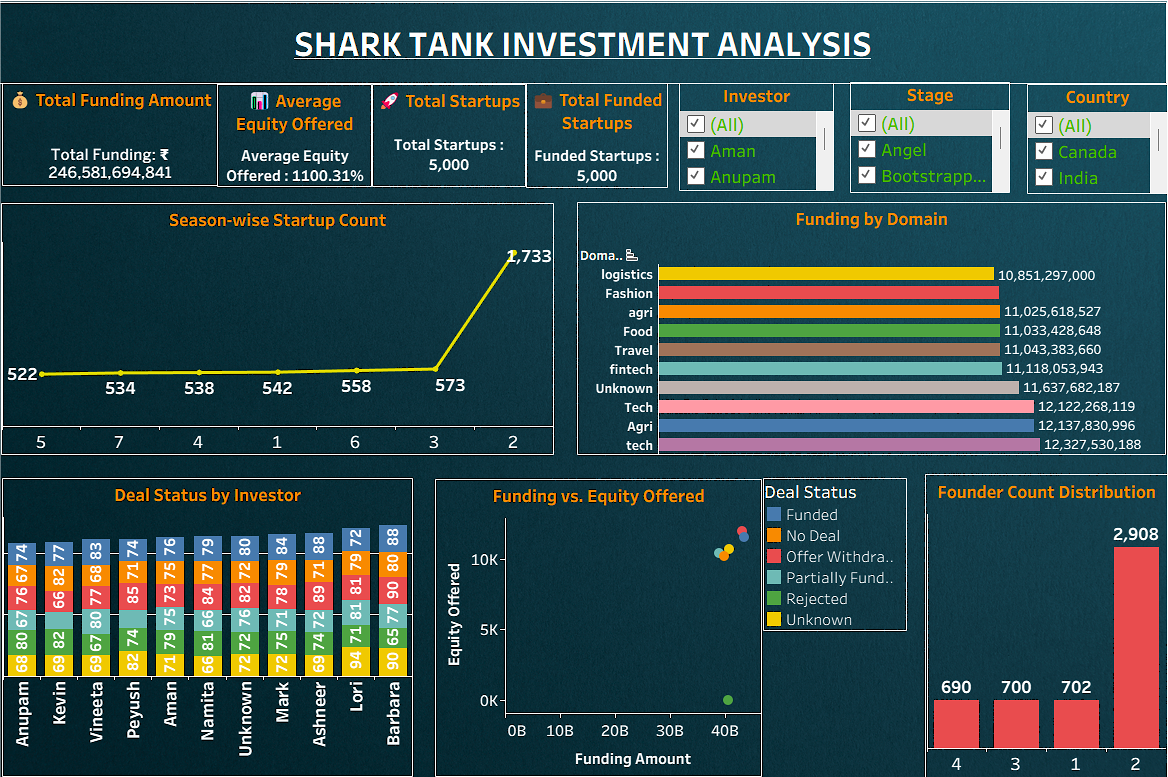

The dashboard page shown, as its layout file describes it:
{"tool":"tableau","page":{"name":"Dashboard 1","canvas":[1000,1000],"units":"permille","ordinal":0},"visuals":[{"type":"image","param":"C:/Users/WELCOME/Desktop/plain-smooth-green-wall-texture.jpg","box":[6.6,10,986.9,980]},{"type":"text","box":[20.5,16.2,957.4,102.2]},{"type":"filter","title":"Filter","param":"[federated.1q04jqq11v8j4z1a1cldg11kqntg].[none:stage:nk]","box":[718,116,131.2,138.4]},{"type":"worksheet","title":"Sheet 1","mark":"Automatic","box":[22.9,117.2,177.1,128.4]},{"type":"worksheet","title":"Sheet 4","mark":"Automatic","box":[452.5,117.2,116.4,130.9]},{"type":"filter","title":"Filter","param":"[federated.1q04jqq11v8j4z1a1cldg11kqntg].[none:investor:nk]","box":[577.9,117.2,127,134.7]},{"type":"worksheet","title":"Sheet 2","mark":"Automatic","box":[199.2,118.5,127,128.4]},{"type":"worksheet","title":"Sheet 3","mark":"Automatic","box":[326.2,118.5,126.2,128.4]},{"type":"filter","title":"Filter","param":"[federated.1q04jqq11v8j4z1a1cldg11kqntg].[none:country:nk]","box":[863.1,118.5,115.6,137.2]},{"type":"worksheet","title":"Horizontal Bar Chart","mark":"Automatic","rows":["domain"],"cols":["funding_amount"],"box":[494.3,265.6,482.8,315.5]},{"type":"worksheet","title":"Line Chart","mark":"Line","rows":["startup_name"],"cols":["season"],"box":[22.1,266.8,453.3,314.2]},{"type":"worksheet","title":"Bar plot","mark":"Bar","rows":["startup_name"],"cols":["founders"],"box":[779.5,604.7,199.2,379.1]},{"type":"worksheet","title":"Stacked Bar Chart","mark":"Automatic","rows":["Calculation_1130403512236269568"],"cols":["investor"],"box":[22.9,609.7,336.9,372.8]},{"type":"legend","title":"scatter plot","param":"[federated.1q04jqq11v8j4z1a1cldg11kqntg].[none:deal_status:nk]","box":[646.7,609.7,118,190.8]},{"type":"worksheet","title":"scatter plot","mark":"Circle","rows":["equity_offered"],"cols":["funding_amount"],"box":[377.9,611,268,371.6]}]}

Visuals, with their boxes on the dashboard's canvas, which has no fixed pixel size, in thousandths of its width and height (x1, y1, x2, y2). These are canvas units, not pixel positions in the 1168x777 screenshot, which may show the page scaled, cropped or inside an application window:
image: crop(7, 10, 994, 990)
text: crop(20, 16, 978, 118)
"Filter" filter: crop(718, 116, 849, 254)
"Sheet 1" worksheet: crop(23, 117, 200, 246)
"Sheet 4" worksheet: crop(452, 117, 569, 248)
"Filter" filter: crop(578, 117, 705, 252)
"Sheet 2" worksheet: crop(199, 118, 326, 247)
"Sheet 3" worksheet: crop(326, 118, 452, 247)
"Filter" filter: crop(863, 118, 979, 256)
"Horizontal Bar Chart" worksheet: crop(494, 266, 977, 581)
"Line Chart" worksheet (Line marks): crop(22, 267, 475, 581)
"Bar plot" worksheet (Bar marks): crop(780, 605, 979, 984)
"Stacked Bar Chart" worksheet: crop(23, 610, 360, 982)
"scatter plot" legend: crop(647, 610, 765, 800)
"scatter plot" worksheet (Circle marks): crop(378, 611, 646, 983)
